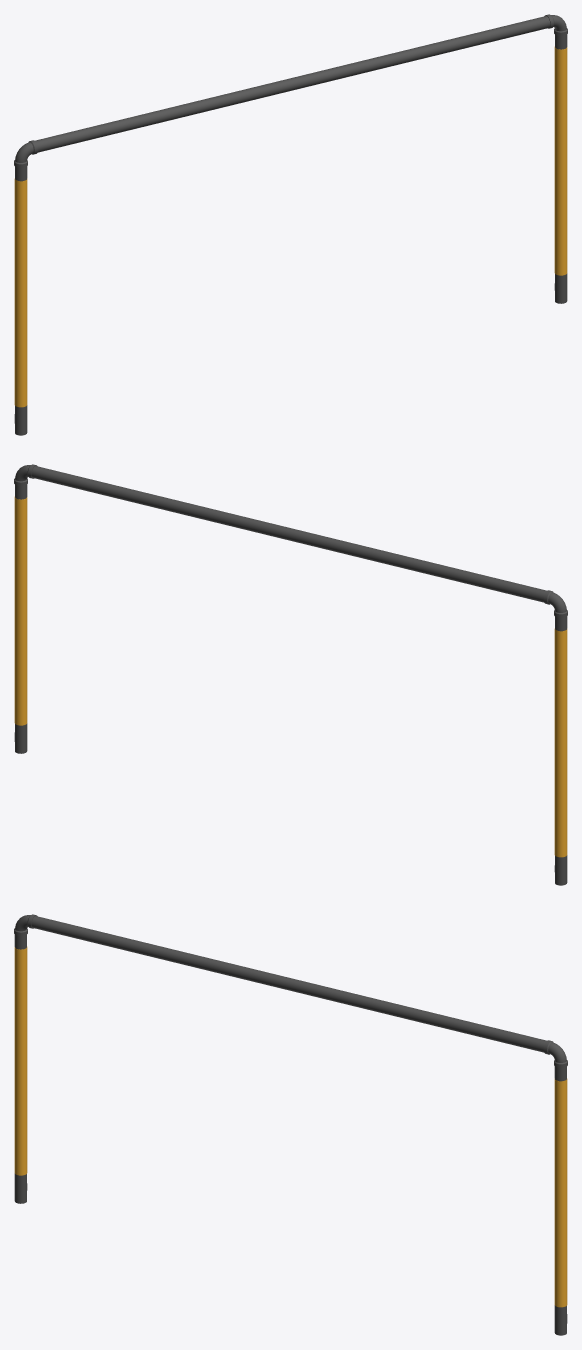
The model's file is gate.dae.
The picture shows the model from 3 angles, top to bottom: view 1: azimuth 30°, elevation 25°; view 2: azimuth 150°, elevation 25°; view 3: azimuth 330°, elevation 25°; orthographic projection.
Parts seen in each view (by area): view 1: mesh_1_2in_abs_pipe_Robosub_Validation_Gate, mesh_2_Boss-Extrude2; view 2: mesh_1_2in_abs_pipe_Robosub_Validation_Gate, mesh_2_Boss-Extrude2; view 3: mesh_1_2in_abs_pipe_Robosub_Validation_Gate, mesh_2_Boss-Extrude2.
Part boxes in pixels (box(x1,y1,x2,y2)): mesh_1_2in_abs_pipe_Robosub_Validation_Gate: box(14, 14, 567, 435); mesh_2_Boss-Extrude2: box(14, 46, 567, 407); mesh_1_2in_abs_pipe_Robosub_Validation_Gate: box(14, 464, 567, 885); mesh_2_Boss-Extrude2: box(14, 496, 567, 857); mesh_1_2in_abs_pipe_Robosub_Validation_Gate: box(14, 914, 567, 1335); mesh_2_Boss-Extrude2: box(14, 946, 567, 1307).
Size of the model in its own units: 3.12 by 0.0685 by 1.56.
